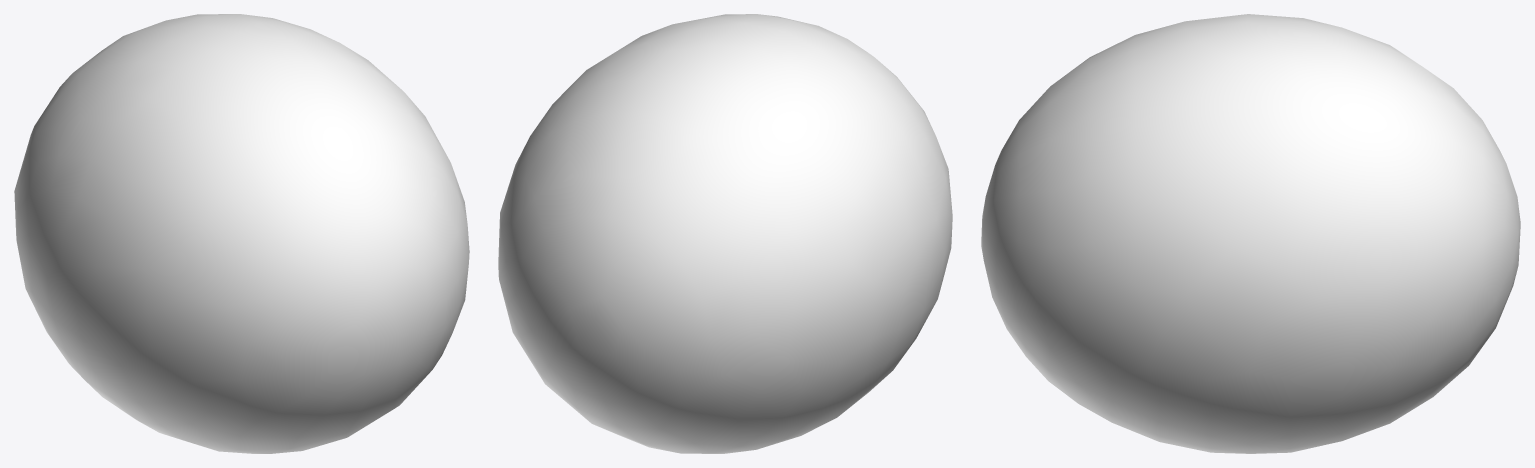
The model's file is egg_withoutshell.gltf.
3 views of the same model, side by side, from view 1: azimuth 30°, elevation 25°; view 2: azimuth 150°, elevation 25°; view 3: azimuth 270°, elevation 25° (orthographic). The views are drawn at different scales.
Visible parts, largest first — view 1: Sphere.003; view 2: Sphere.003; view 3: Sphere.003.
Boxes of the visible parts, <box> form: Sphere.003: <box>14,14,469,453</box>; Sphere.003: <box>498,14,952,453</box>; Sphere.003: <box>981,14,1520,453</box>.
Bounding box in the file's own units: 2.05 × 2.02 × 2.48.
